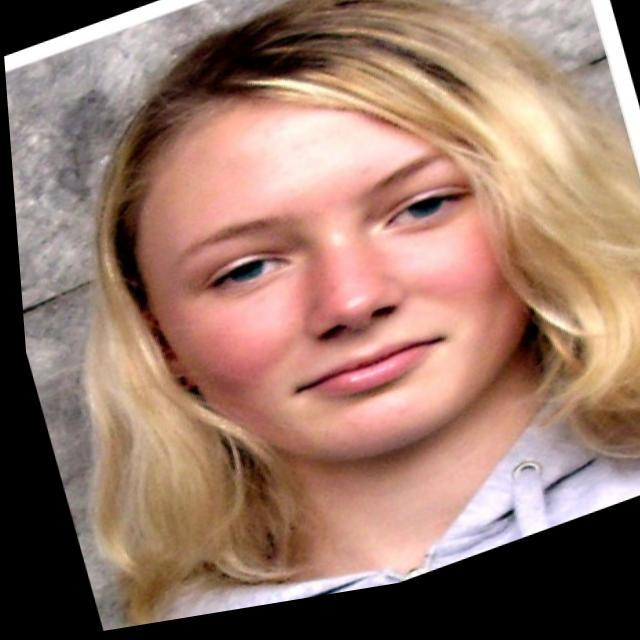Nonhelmet: (77, 1, 637, 616)
